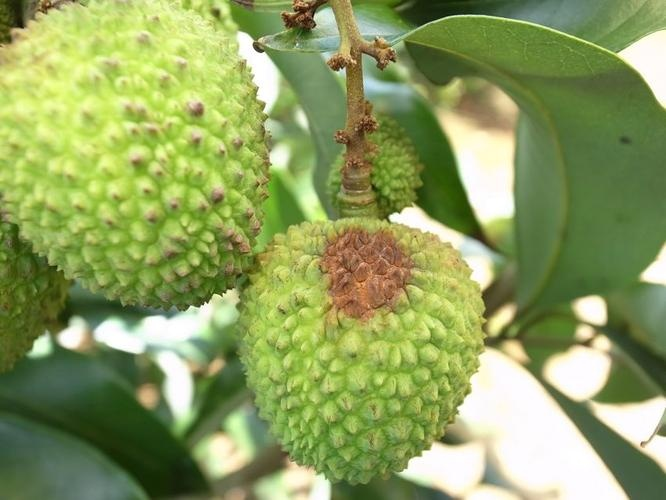Frost_Blight: (311, 240, 416, 340)
